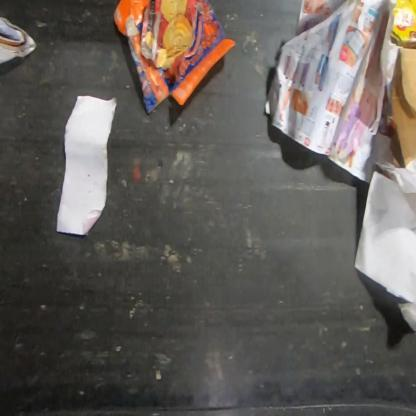cardboard: (112, 0, 238, 116), (390, 47, 415, 169), (389, 0, 416, 49)
